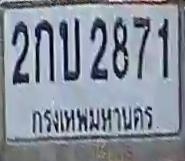1: (157, 19, 170, 81)
2: (11, 22, 30, 84), (90, 18, 108, 80)
7: (132, 17, 150, 80)
8: (112, 17, 128, 79)
A01: (34, 19, 54, 82)
A26: (58, 17, 82, 84)
BKK: (27, 101, 155, 139)
